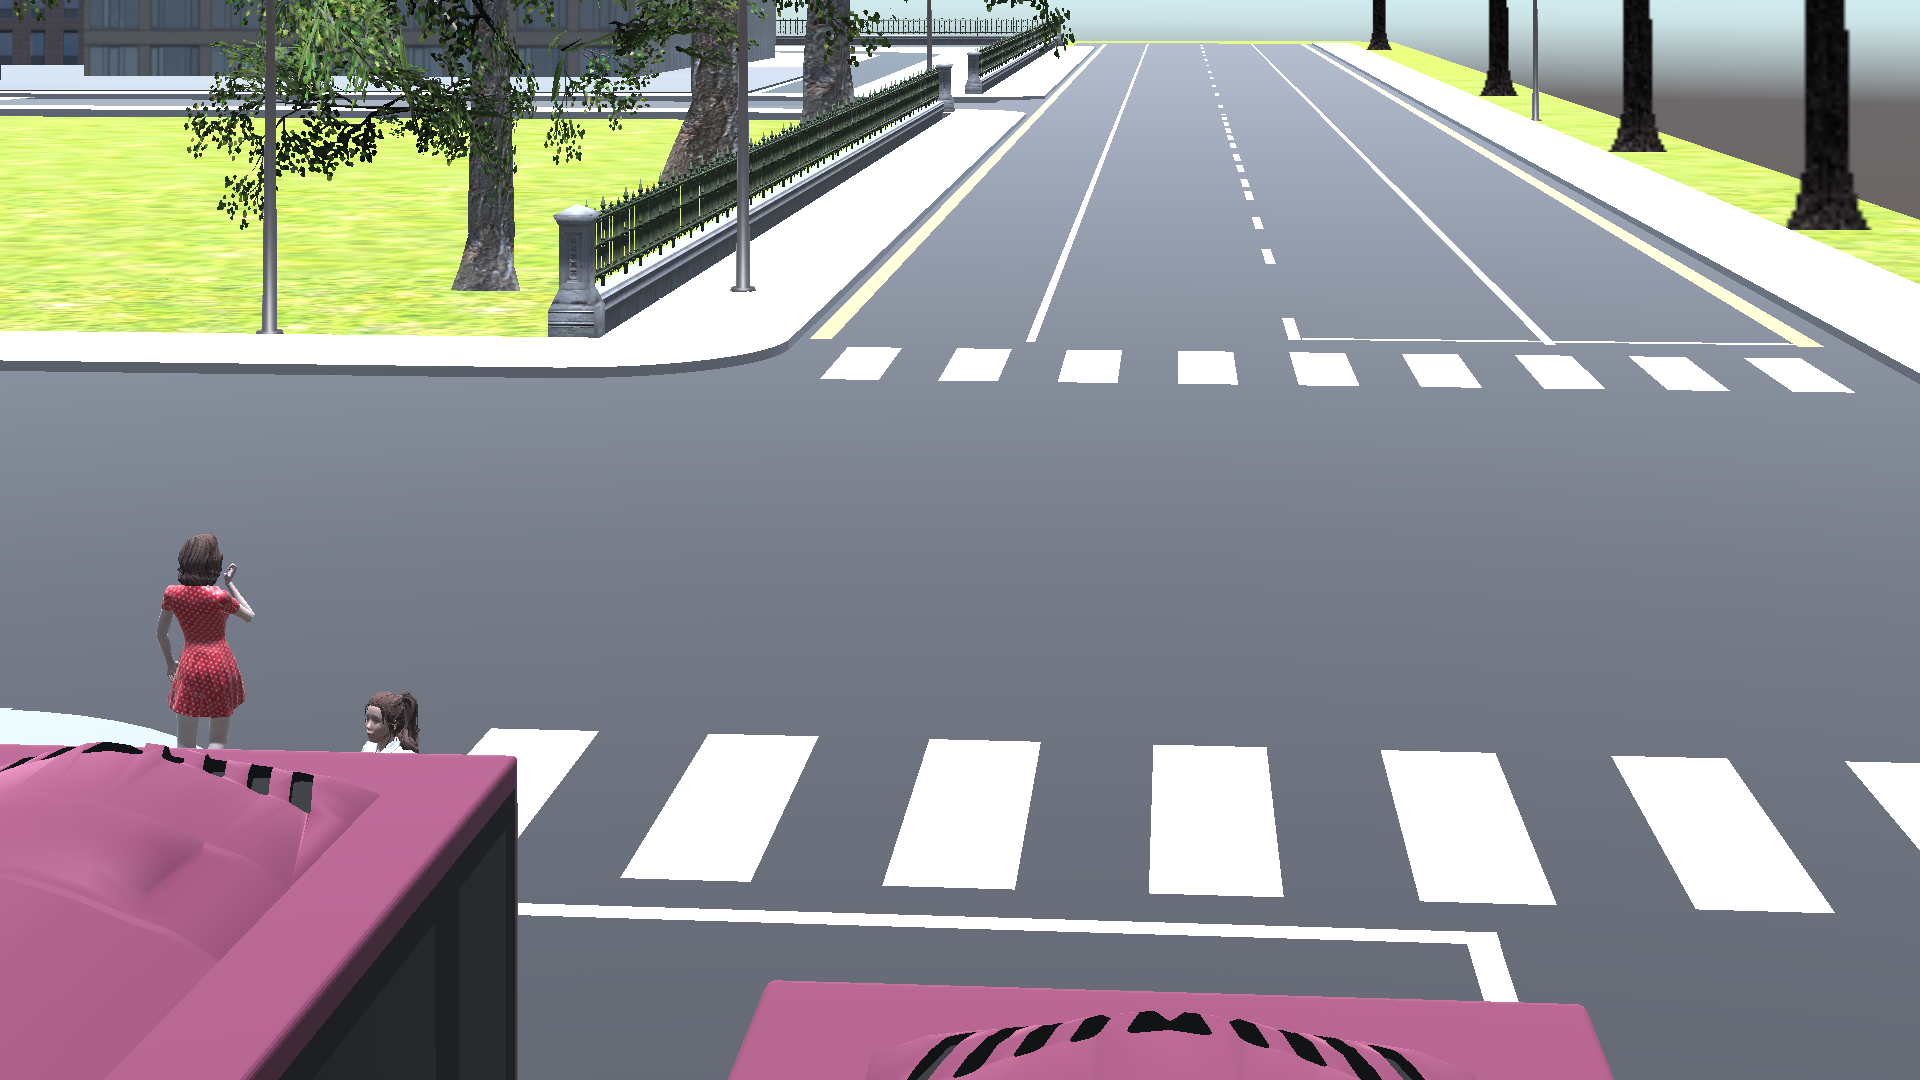pedestrian: (146, 527, 251, 753), (357, 684, 421, 755)
